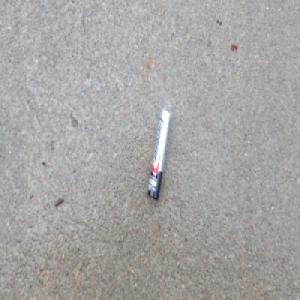Battery: (147, 109, 170, 201)
